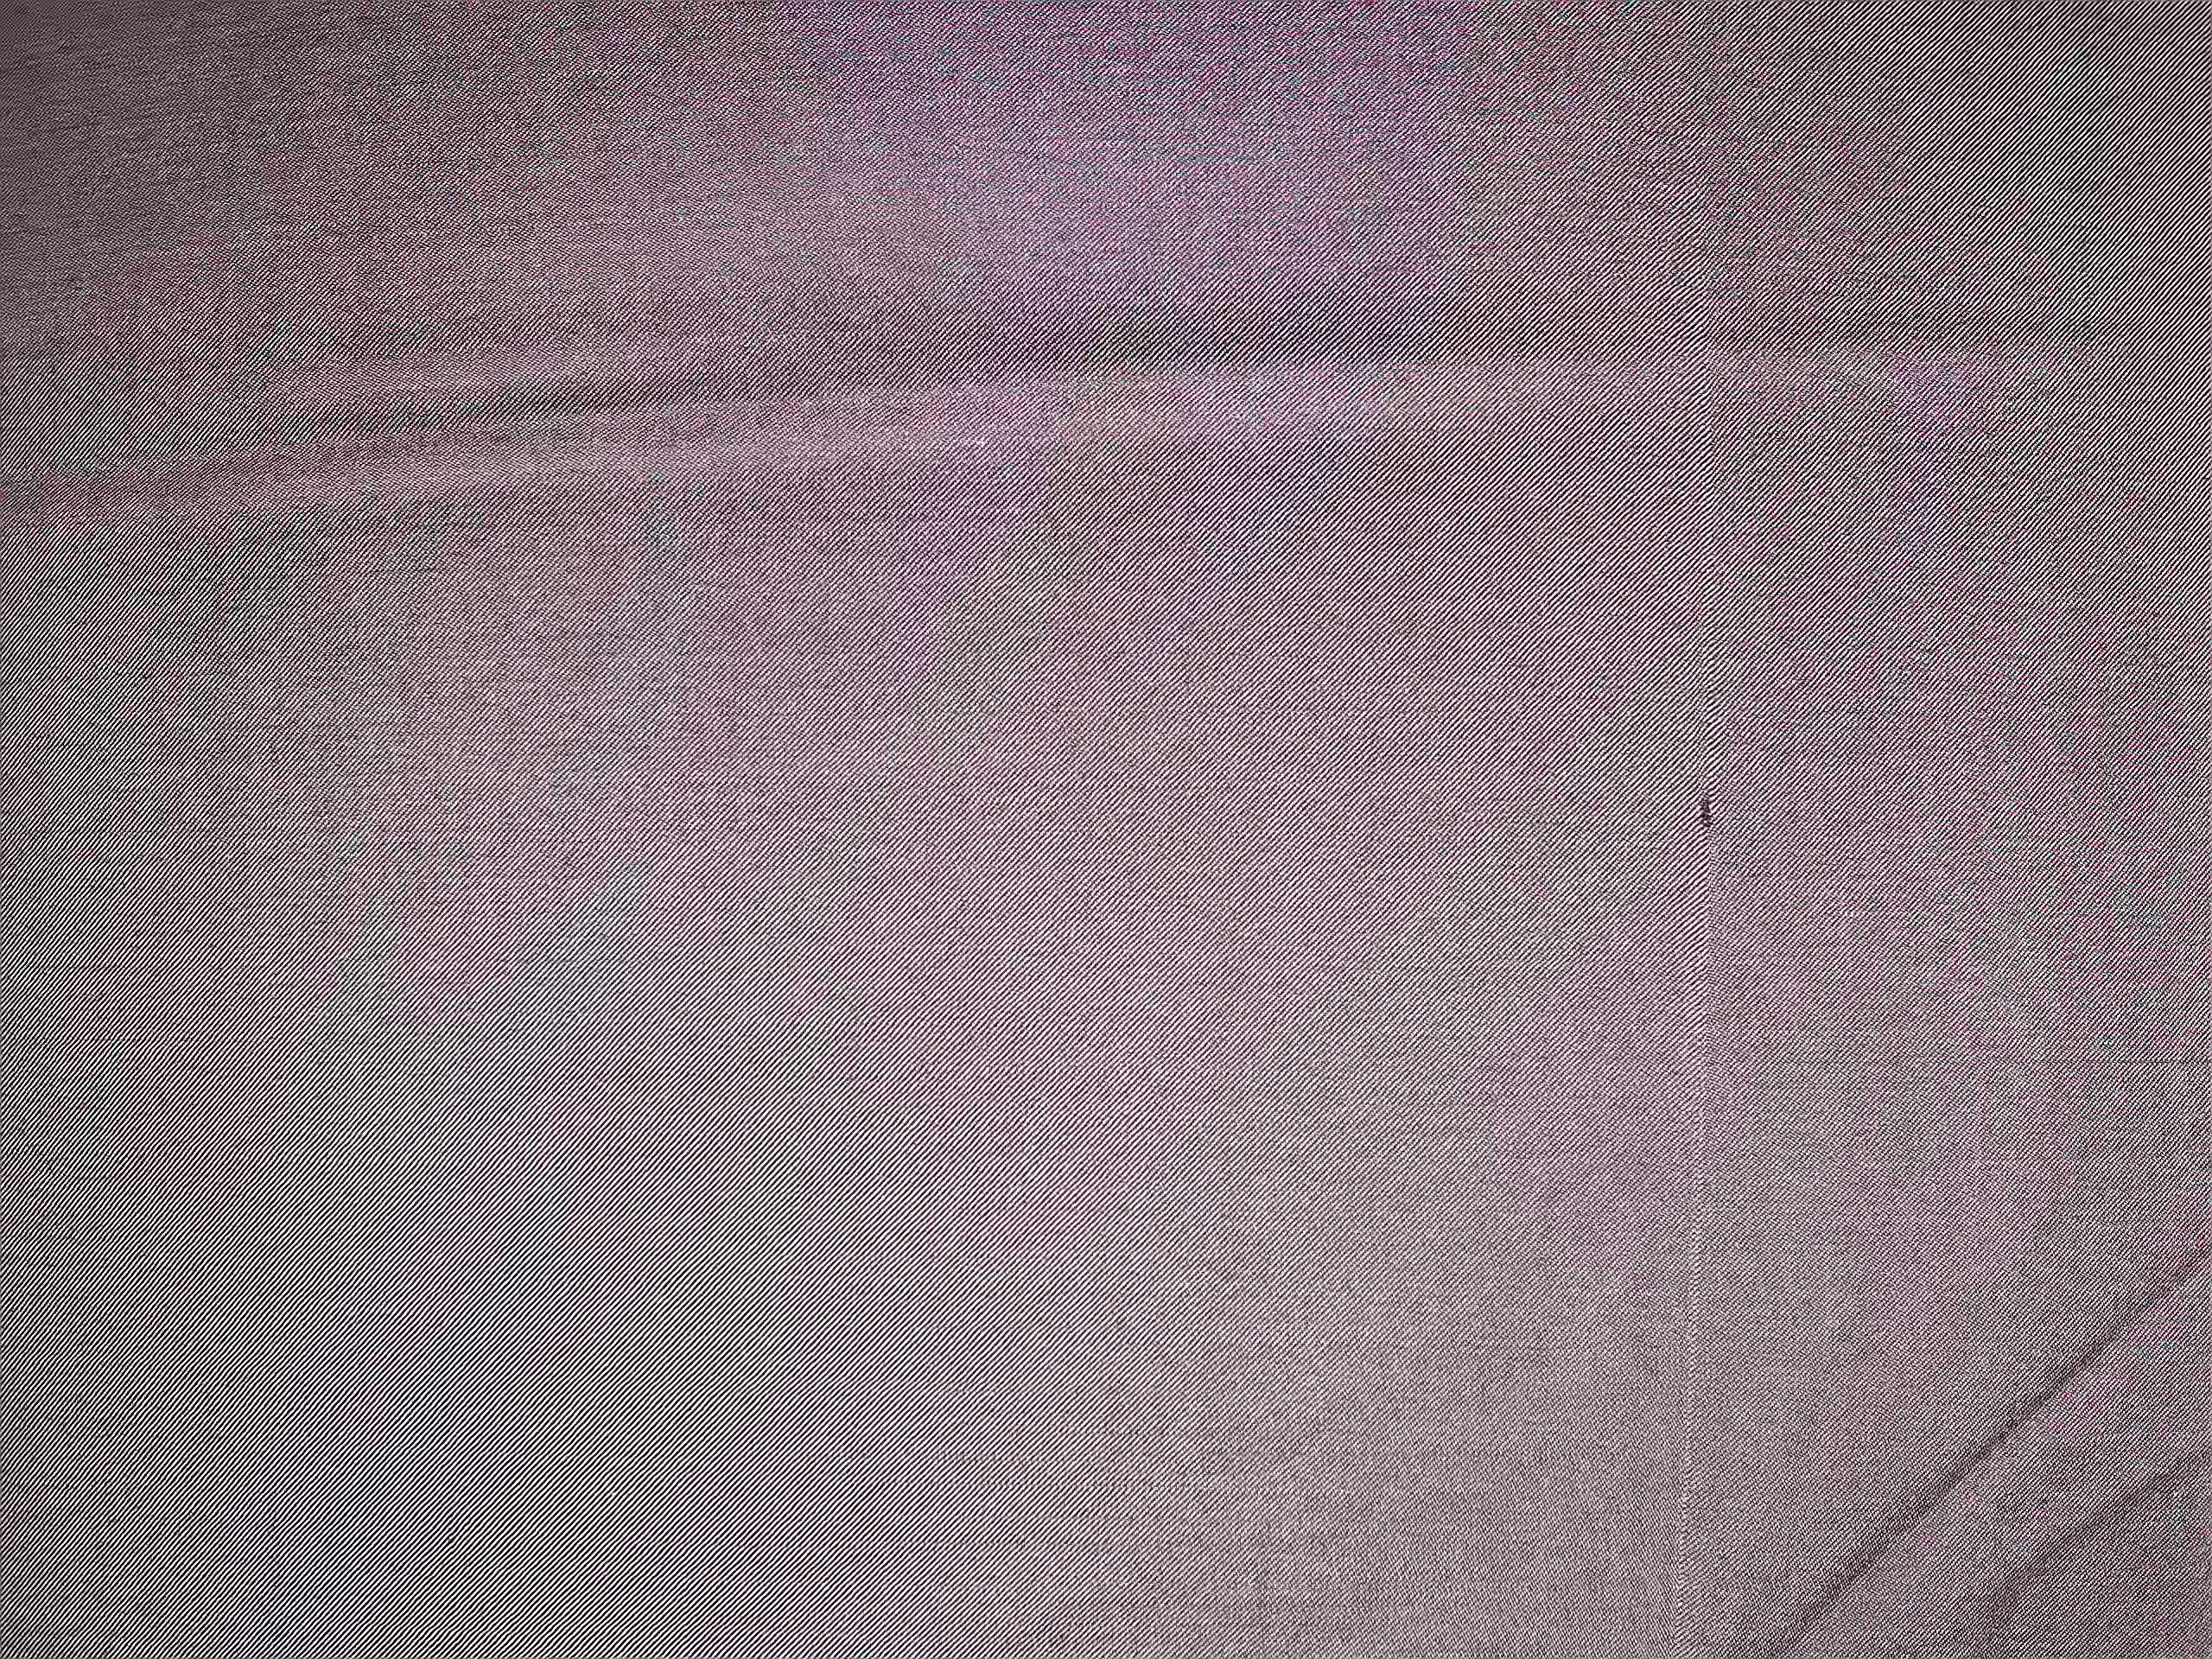hanging-warp: (1669, 300, 1728, 1626)
